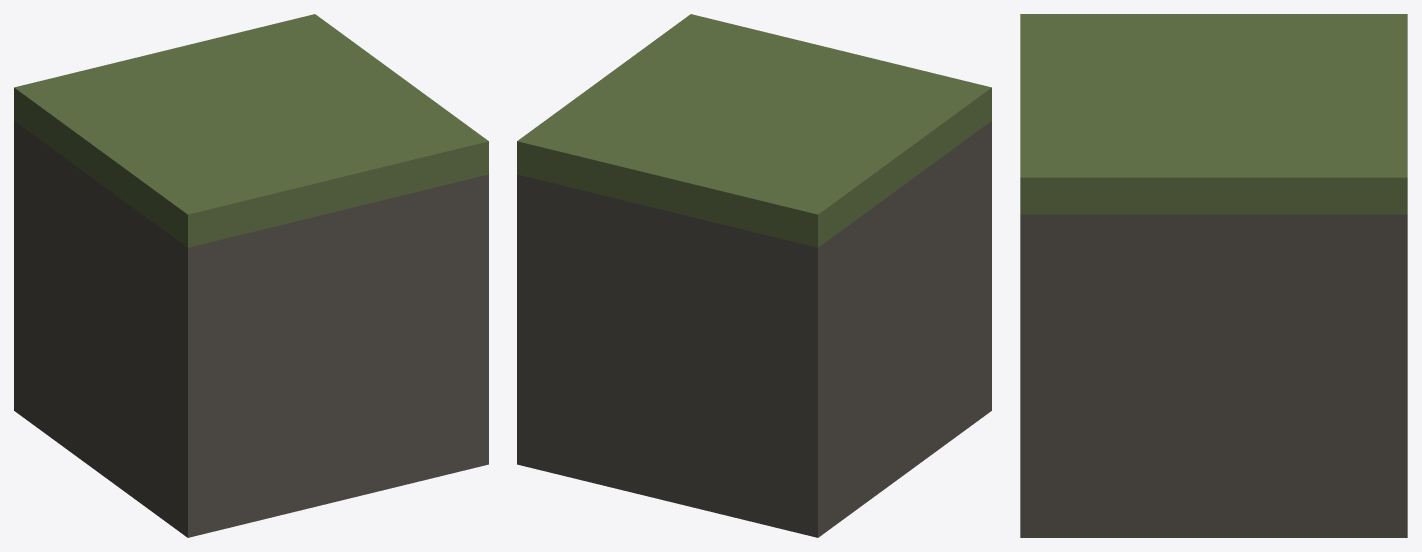
The model's file is aaaa.gltf.
3 renders of one model, left to right at view 1: azimuth 30°, elevation 25°; view 2: azimuth 150°, elevation 25°; view 3: azimuth 270°, elevation 25°, orthographic. The views are drawn at different scales.
Visible parts, largest first — view 1: pCube3, pCube1; view 2: pCube3, pCube1; view 3: pCube3, pCube1.
Boxes of the visible parts, bbox=[...] form: pCube3: bbox=[14, 121, 488, 537]; pCube1: bbox=[14, 14, 488, 247]; pCube3: bbox=[517, 121, 991, 537]; pCube1: bbox=[517, 14, 991, 247]; pCube3: bbox=[1020, 214, 1407, 537]; pCube1: bbox=[1020, 14, 1407, 214].
Bounding box in the file's own units: 0.0338 × 0.0347 × 0.0338.
